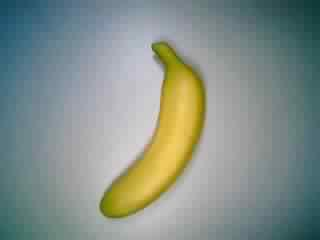banana: (97, 38, 210, 221)
